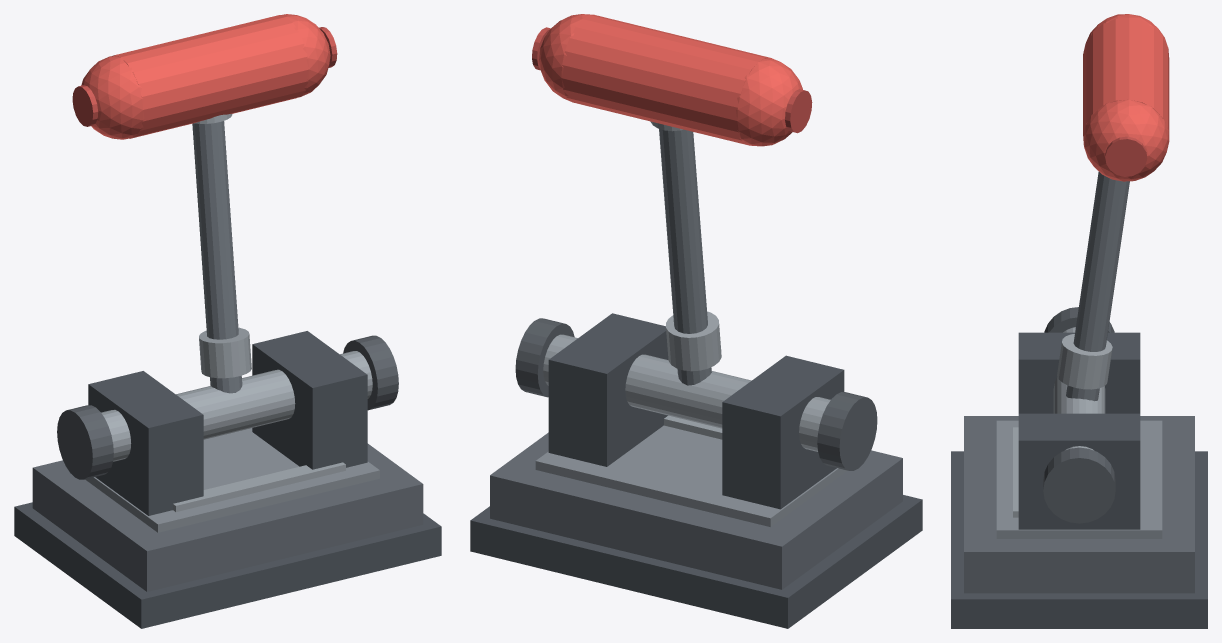
Rendered from SpaceGamble_Lever.glb.
The picture shows the model from 3 angles, left to right: view 1: azimuth 30°, elevation 25°; view 2: azimuth 150°, elevation 25°; view 3: azimuth 270°, elevation 25°; orthographic projection. The views are drawn at different scales.
Parts seen in each view (by area): view 1: BaseHousing, BaseLower, RedGripCore, HingeCheek_R, HingeCheek_L, TopInset, LeverStem, PivotAxle, RedGripEnd_L, PivotCap_L, InsetStripe, PivotCap_R (+3 smaller); view 2: BaseHousing, BaseLower, RedGripCore, HingeCheek_R, HingeCheek_L, TopInset, LeverStem, PivotAxle, RedGripEnd_L, PivotCap_L, PivotCap_R, StemLowerCollar (+3 smaller); view 3: BaseHousing, BaseLower, HingeCheek_R, RedGripCore, TopInset, LeverStem, HingeCheek_L, PivotCap_R, RedGripEnd_R, StemLowerCollar, GripEndMark_R, PivotAxle (+2 smaller).
Boxes of the visible parts, x1=… form: BaseHousing: x1=32, y1=443, x2=423, y2=591; BaseLower: x1=14, y1=502, x2=441, y2=628; RedGripCore: x1=112, y1=15, x2=308, y2=138; HingeCheek_R: x1=252, y1=331, x2=367, y2=469; HingeCheek_L: x1=88, y1=371, x2=203, y2=515; TopInset: x1=85, y1=428, x2=379, y2=532; LeverStem: x1=192, y1=121, x2=242, y2=393; PivotAxle: x1=101, y1=351, x2=372, y2=461; RedGripEnd_L: x1=81, y1=56, x2=144, y2=139; PivotCap_L: x1=57, y1=405, x2=113, y2=479; InsetStripe: x1=173, y1=462, x2=345, y2=511; PivotCap_R: x1=343, y1=335, x2=398, y2=410; BaseHousing: x1=490, y1=432, x2=902, y2=589; BaseLower: x1=470, y1=495, x2=922, y2=628; RedGripCore: x1=561, y1=15, x2=768, y2=145; HingeCheek_R: x1=548, y1=313, x2=668, y2=466; HingeCheek_L: x1=722, y1=355, x2=844, y2=509; TopInset: x1=535, y1=425, x2=847, y2=526; LeverStem: x1=659, y1=129, x2=711, y2=385; PivotAxle: x1=543, y1=334, x2=830, y2=451; RedGripEnd_L: x1=736, y1=57, x2=802, y2=146; PivotCap_L: x1=817, y1=392, x2=877, y2=470; PivotCap_R: x1=515, y1=318, x2=574, y2=397; StemLowerCollar: x1=666, y1=311, x2=721, y2=371; BaseHousing: x1=964, y1=416, x2=1194, y2=593; BaseLower: x1=951, y1=451, x2=1207, y2=628; HingeCheek_R: x1=1018, y1=413, x2=1140, y2=529; RedGripCore: x1=1083, y1=17, x2=1169, y2=138; TopInset: x1=996, y1=420, x2=1162, y2=538; LeverStem: x1=1066, y1=171, x2=1129, y2=401; HingeCheek_L: x1=1018, y1=332, x2=1140, y2=413; PivotCap_R: x1=1043, y1=447, x2=1115, y2=523; RedGripEnd_R: x1=1083, y1=99, x2=1169, y2=181; StemLowerCollar: x1=1057, y1=334, x2=1112, y2=389; GripEndMark_R: x1=1105, y1=136, x2=1147, y2=176; PivotAxle: x1=1053, y1=327, x2=1105, y2=450.
Size of the model in its own units: 0.306 by 0.4688 by 0.22.
